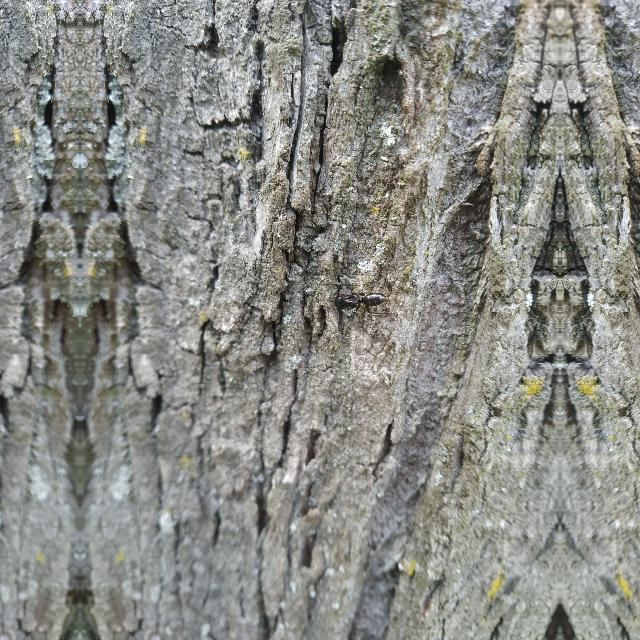Camponotus: (326, 274, 392, 324)
